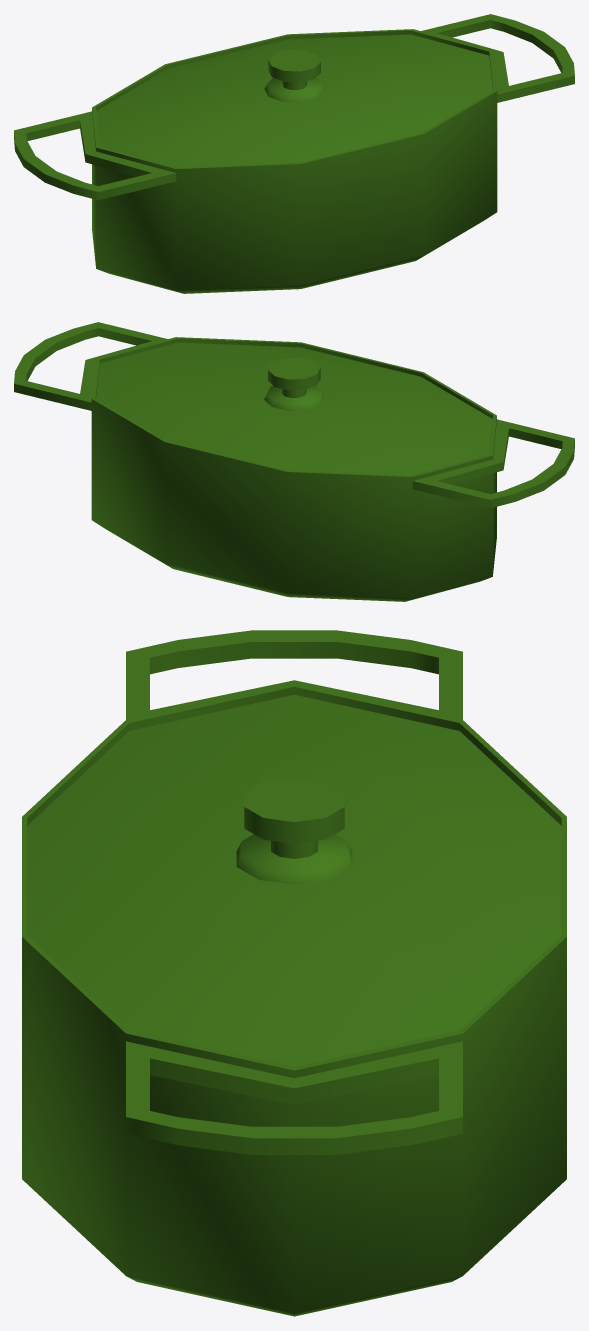
The model's file is scene_kYaeBjxwgu.glb.
The picture shows the model from 3 angles, top to bottom: view 1: azimuth 30°, elevation 25°; view 2: azimuth 150°, elevation 25°; view 3: azimuth 270°, elevation 25°; orthographic projection. The views are drawn at different scales.
Parts seen in each view (by area): view 1: pan_dutch_oven_Cylinder.055, pan_dutch_oven_lid_Cylinder.068; view 2: pan_dutch_oven_Cylinder.055, pan_dutch_oven_lid_Cylinder.068; view 3: pan_dutch_oven_Cylinder.055, pan_dutch_oven_lid_Cylinder.068.
Boxes of the visible parts, x1=… form: pan_dutch_oven_Cylinder.055: x1=14, y1=14, x2=574, y2=293; pan_dutch_oven_lid_Cylinder.068: x1=96, y1=34, x2=492, y2=167; pan_dutch_oven_Cylinder.055: x1=14, y1=322, x2=574, y2=601; pan_dutch_oven_lid_Cylinder.068: x1=96, y1=342, x2=492, y2=475; pan_dutch_oven_Cylinder.055: x1=22, y1=630, x2=566, y2=1316; pan_dutch_oven_lid_Cylinder.068: x1=27, y1=694, x2=561, y2=1066.
Size of the model in its own units: 9.44 by 2.91 by 4.28.
Materials: 1 (1 with a texture image).
